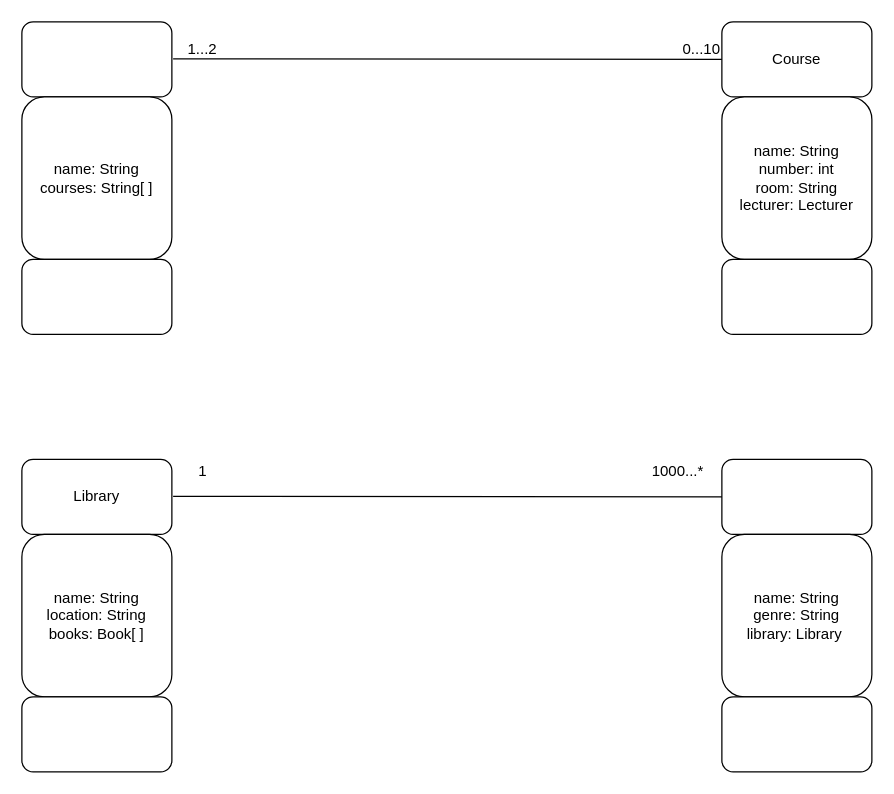
Image size: 894x794. Some labels were removed from this diagram. The box of each missing label's shape, as (x1, y1, x2, y2) in pixels:
Book: (721, 458, 872, 534)
Lecturer: (21, 21, 172, 97)
